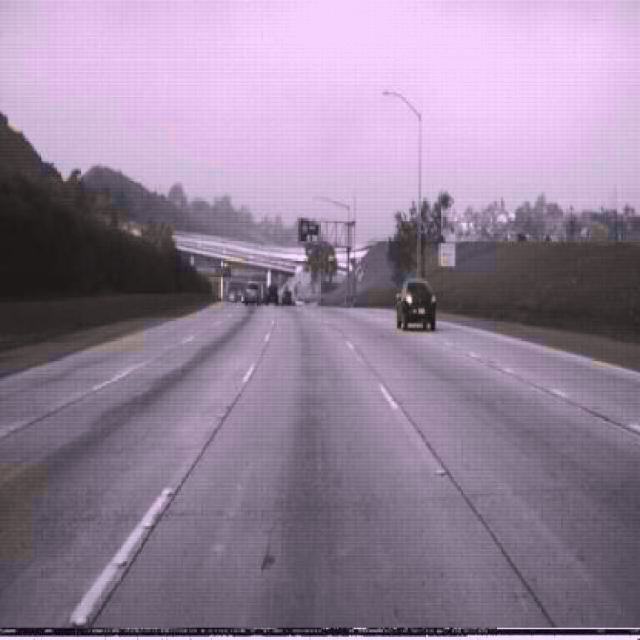curveRight: (356, 264, 364, 280)
